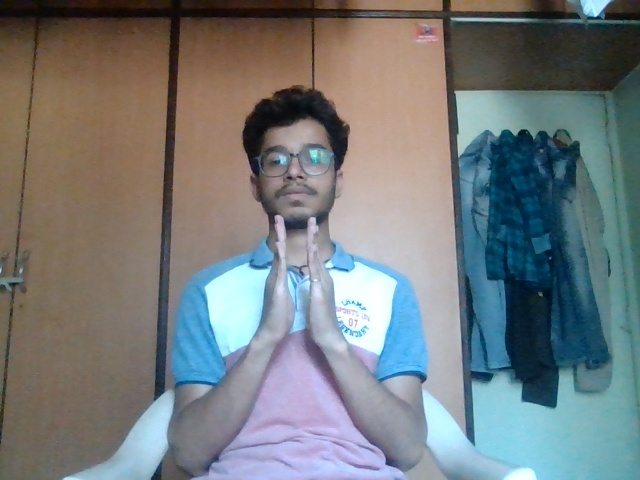morning: (248, 213, 363, 357)
